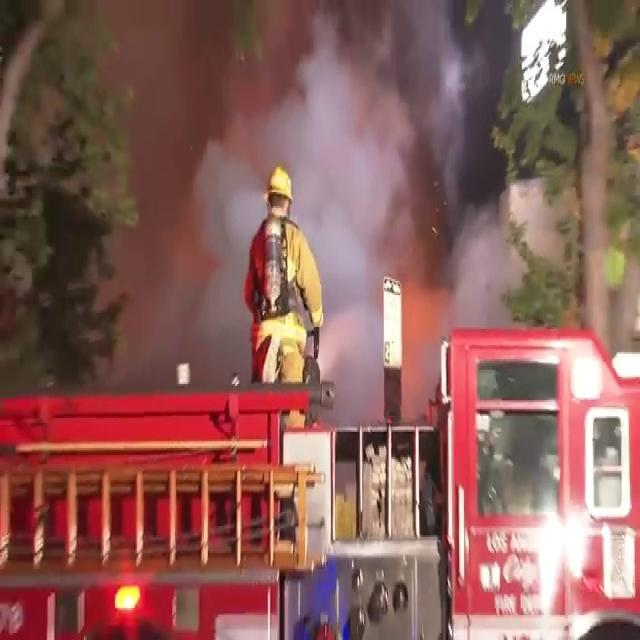Smoke: (9, 0, 532, 359)
